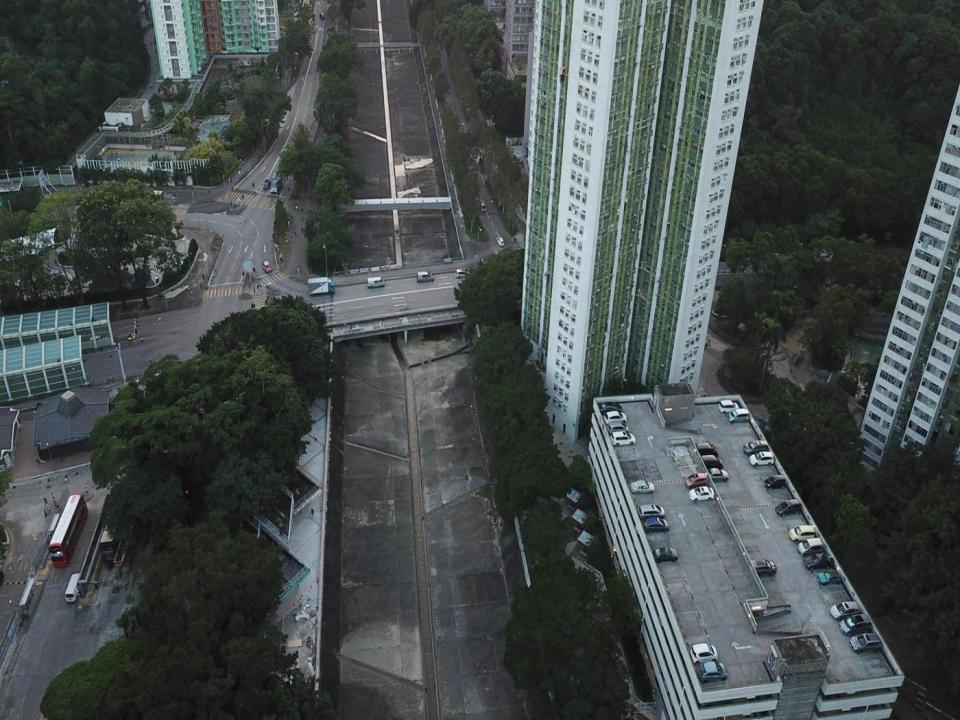bus: (48, 494, 88, 568), (100, 467, 124, 565), (124, 190, 164, 205), (271, 172, 283, 193)
car: (839, 614, 872, 637), (849, 632, 880, 654), (698, 662, 728, 684), (829, 600, 859, 620), (690, 644, 718, 664), (797, 538, 823, 557), (749, 558, 776, 576), (789, 524, 815, 542), (803, 554, 834, 569), (743, 440, 768, 458), (775, 499, 801, 516), (638, 503, 665, 519), (688, 486, 714, 502), (817, 569, 840, 586), (610, 431, 636, 446), (642, 518, 668, 533), (749, 451, 773, 467), (684, 472, 707, 488), (652, 548, 678, 562), (630, 480, 654, 495), (603, 410, 627, 424), (701, 454, 723, 469), (695, 442, 718, 456), (728, 408, 748, 424), (765, 475, 785, 491), (719, 399, 739, 414), (706, 468, 729, 481), (599, 401, 622, 413), (607, 421, 629, 433), (455, 270, 470, 278), (262, 261, 271, 274), (497, 237, 504, 248), (263, 180, 270, 190)
truck: (307, 277, 335, 297)
van: (64, 572, 80, 603), (367, 276, 385, 288), (417, 272, 434, 282), (477, 199, 486, 213), (320, 12, 325, 19)
